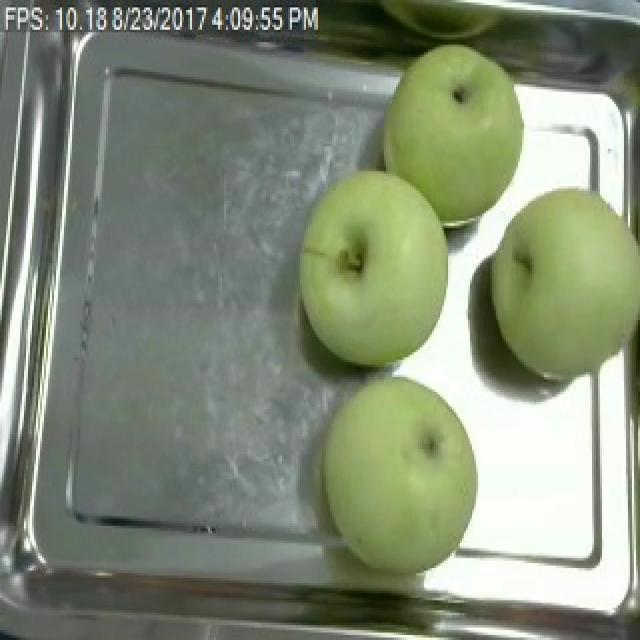50-_ripeness: (316, 370, 484, 577), (297, 173, 458, 371), (483, 182, 640, 380), (390, 32, 528, 234)
